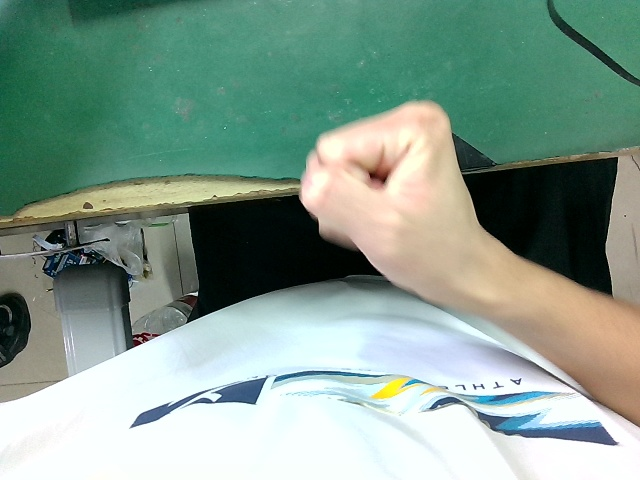stone: (292, 87, 523, 314)
